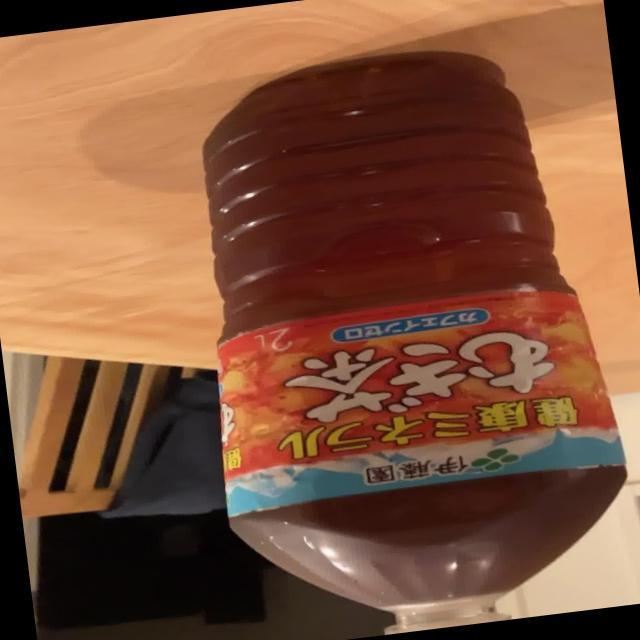good: (171, 28, 640, 640)
